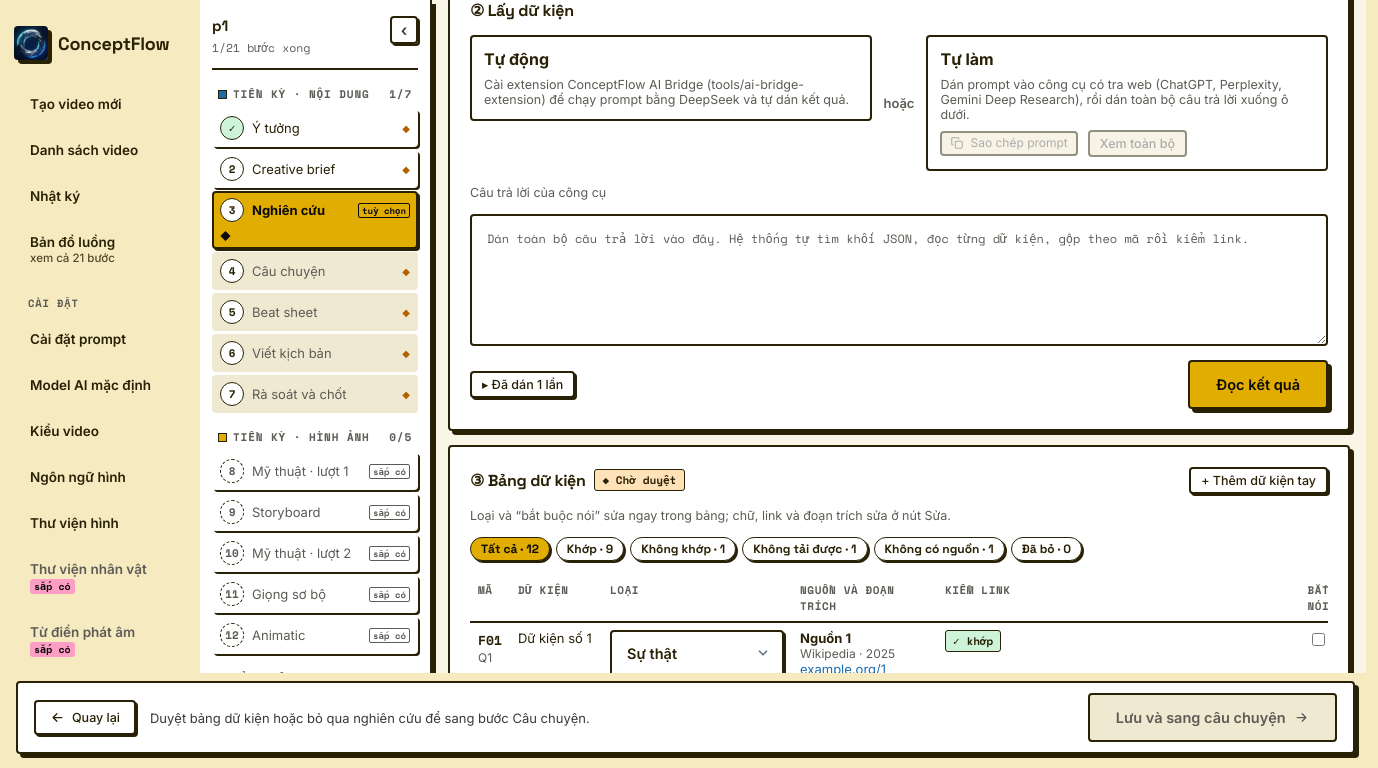
Test: ResearchStepPage › does not send an empty box, and shows the server's reason when no JSON block was found
This screenshot has width=1378, height=768.
(page scrolled)
Click the button with test id "research-paste-read": x=1258, y=384 [1188,360,1328,409]
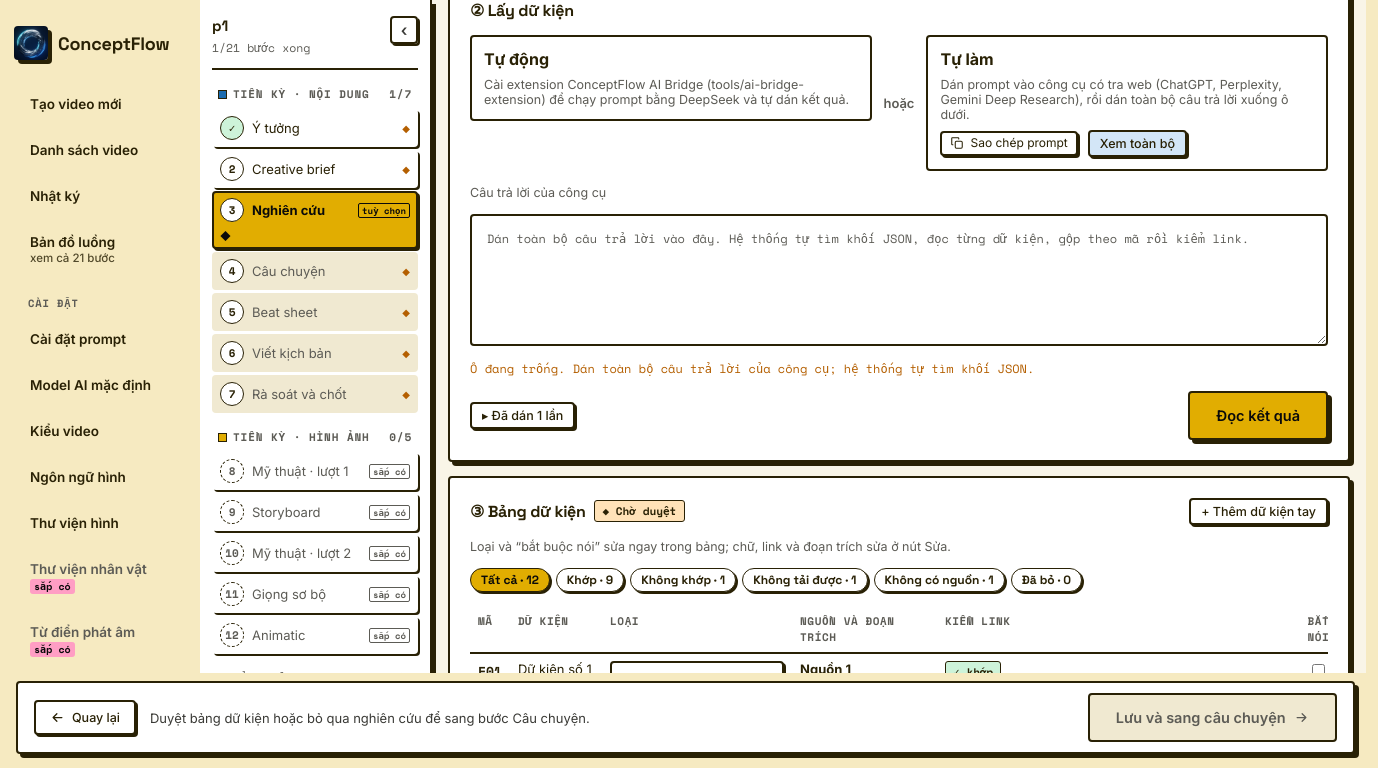
Expected: the message "Ô đang trống. Dán toàn bộ câu trả lời của công cụ; hệ thống tự tìm khối JSON." is shown, [470,360,1034,377]
Replace the text in the text box with test id "research-paste-input" with "chỉ là văn bản": x=899, y=280 [470,214,1328,346]
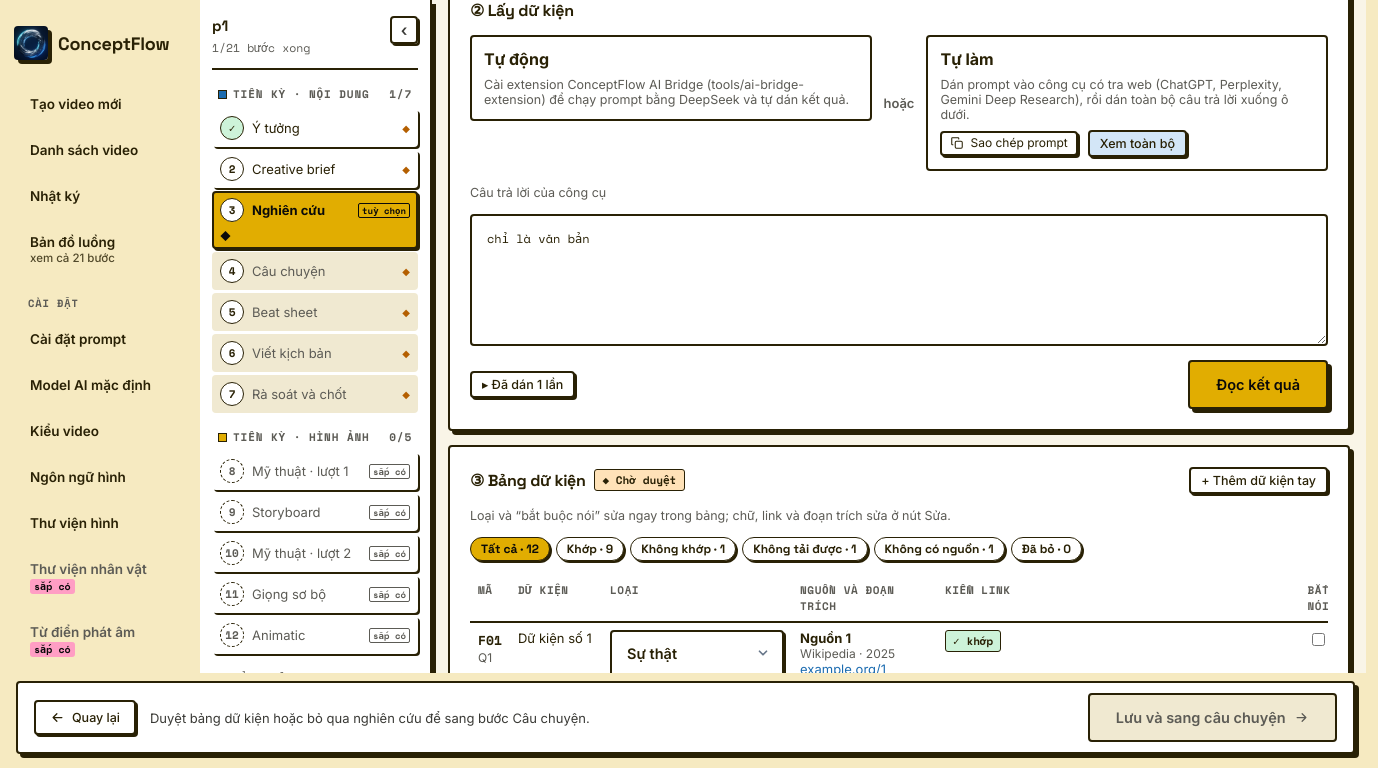
Click the button with test id "research-paste-read": x=1258, y=384 [1188,360,1328,409]
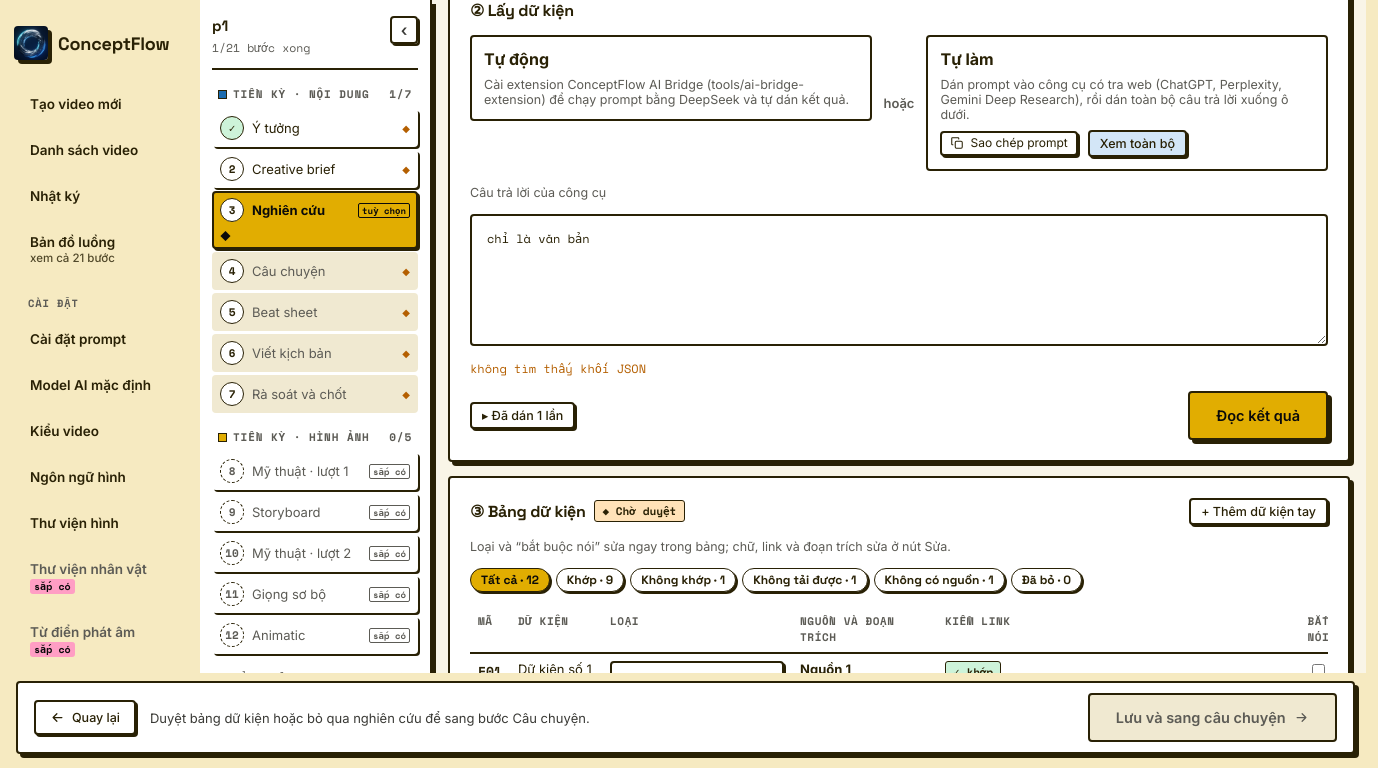
Expected: the message with test id "research-paste-message" reads "không tìm thấy khối JSON", [470,360,646,377]
